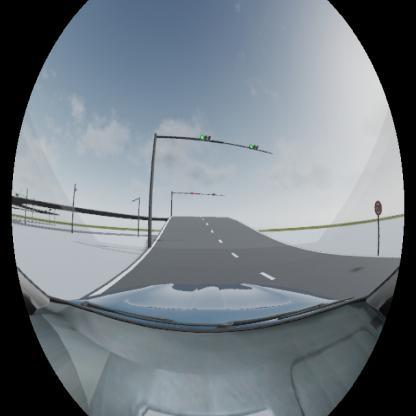Green Light: (199, 134, 211, 142), (250, 144, 258, 149)
